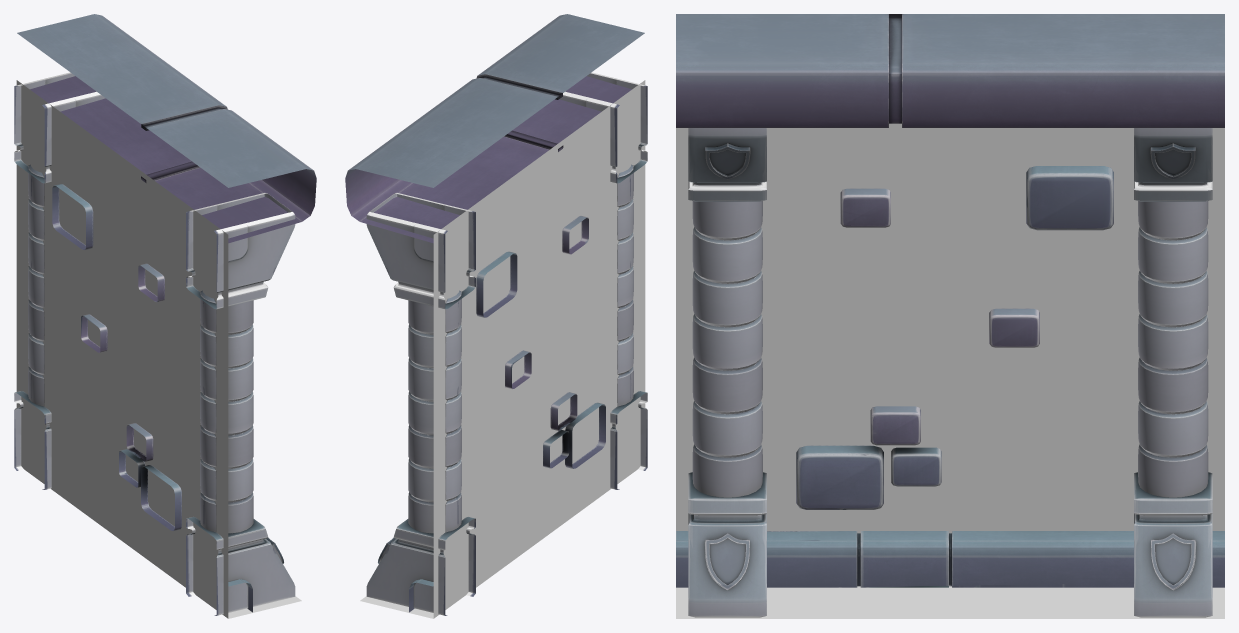
Rendered from Modular_Enviro_Wall_Columns.fbx.
3 views of the same model, side by side, from view 1: azimuth 30°, elevation 25°; view 2: azimuth 150°, elevation 25°; view 3: azimuth 270°, elevation 25° (orthographic). The views are drawn at different scales.
Parts seen in each view (by area): view 1: Wall, Columna, Wall.003, Wall.001, Cube.013; view 2: Wall, Columna, Wall.003, Wall.001, Cube.013; view 3: Wall, Columna, Wall.003, Wall.004, Wall.001, Cube.013.
Boxes of the visible parts, x1,y1,x2,y2 form: Wall: (16,80,228,618); Columna: (14,72,295,615); Wall.003: (17,14,316,243); Wall.001: (52,184,181,531); Cube.013: (228,596,301,618); Wall: (433,80,645,618); Columna: (366,72,647,615); Wall.003: (345,14,644,243); Wall.001: (476,216,605,468); Cube.013: (360,596,433,618); Wall: (676,123,1224,533); Columna: (688,128,1212,617); Wall.003: (676,14,1224,127); Wall.004: (676,531,1224,587); Wall.001: (796,166,1113,509); Cube.013: (676,586,1224,618).
Bounding box in the file's own units: 129 × 558 × 497.
